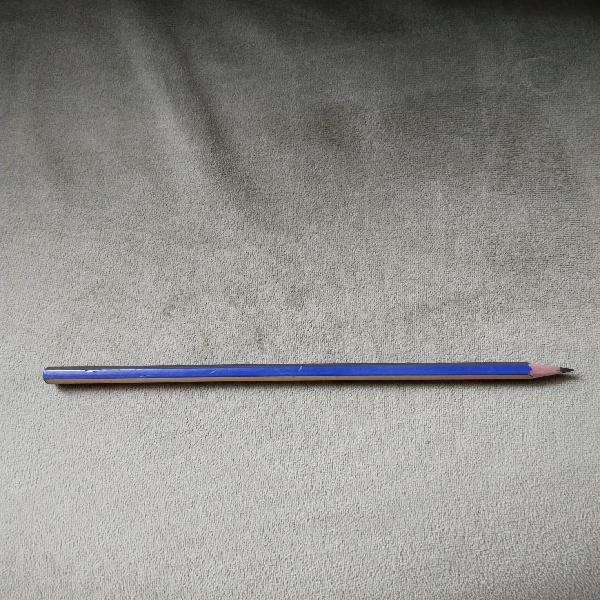pencil: (43, 361, 574, 384)
